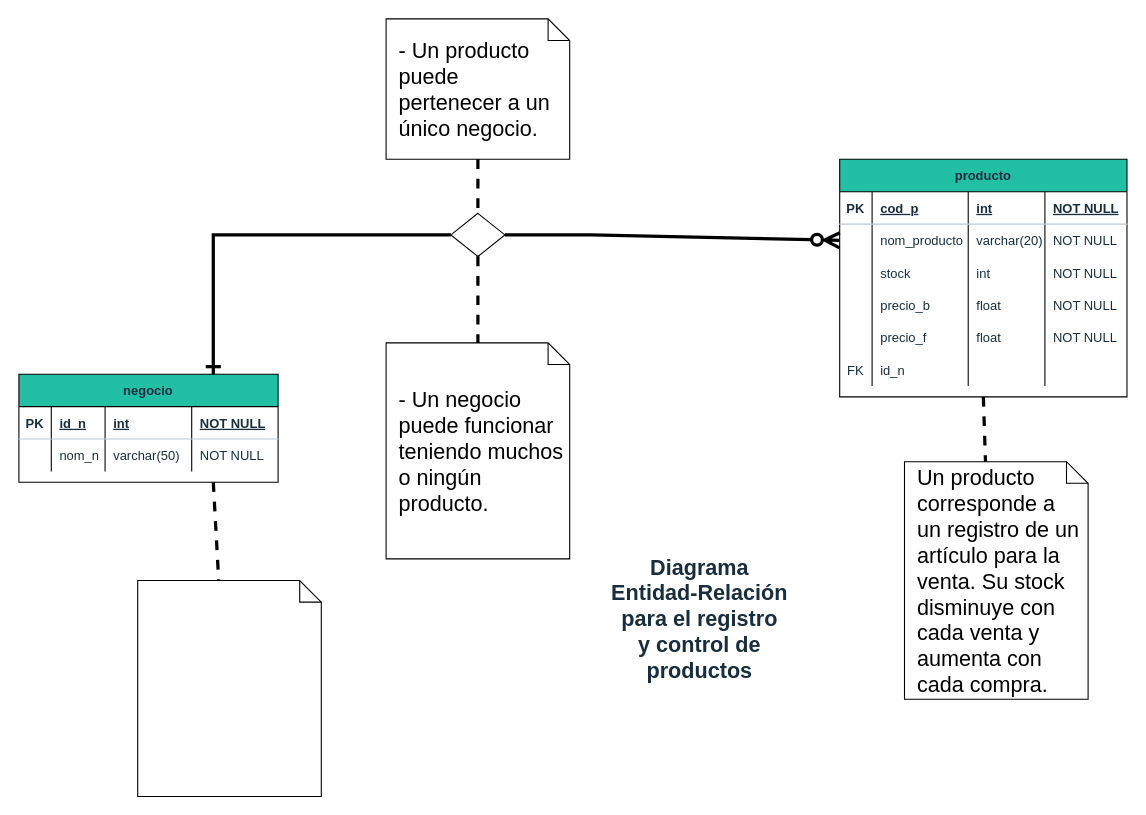
This 1146x815 diagram has some shape labels left out. Each missing label, with the centre of its shape:
"1:N" belongs at point 477,234.
"Un negocio registra productos para llevar un control en las compras y ventas." belongs at point 229,687.
